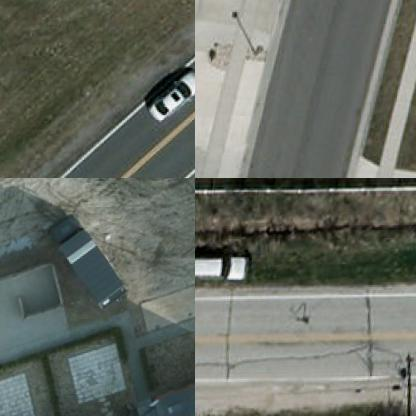car: (148, 63, 194, 124), (195, 255, 259, 284)
